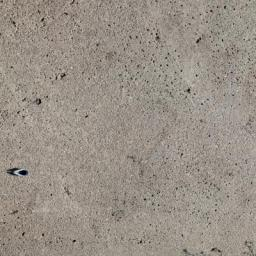FOD: (1, 163, 33, 185)
